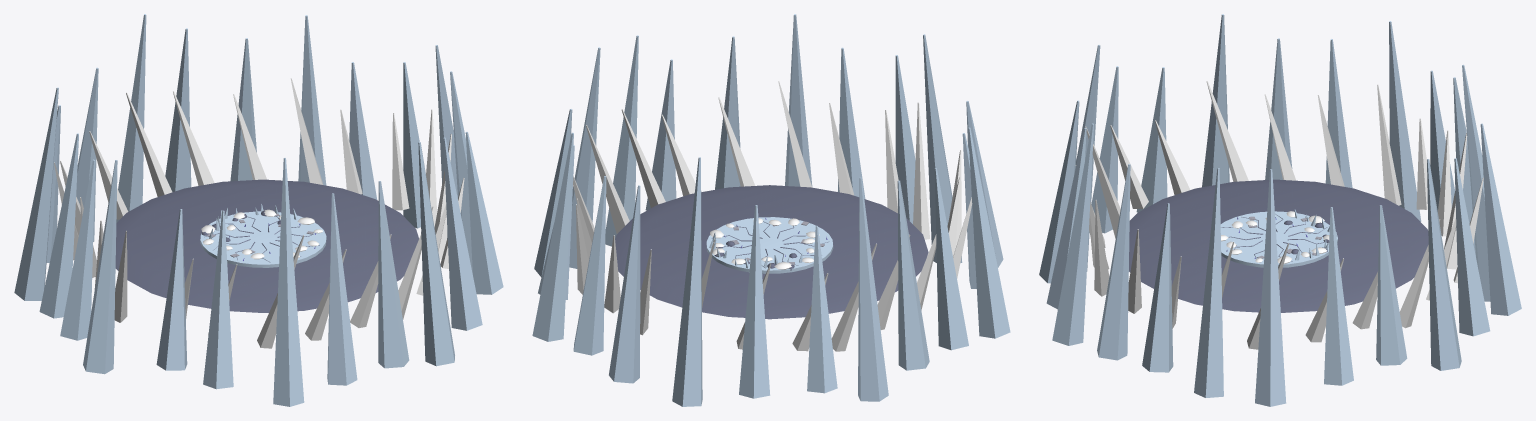
File: frost_sentinel.glb
3 renders of one model, left to right at view 1: azimuth 30°, elevation 25°; view 2: azimuth 150°, elevation 25°; view 3: azimuth 270°, elevation 25°, orthographic.
Visible parts, largest first — view 1: FrostSentinelGround; view 2: FrostSentinelGround; view 3: FrostSentinelGround.
Part boxes in pixels (x1,y1,x2,y2): FrostSentinelGround: (14, 14, 503, 406); FrostSentinelGround: (532, 14, 1010, 406); FrostSentinelGround: (1039, 14, 1521, 406).
Bounding box in the file's own units: 45.94 × 24.42 × 45.71.
Materials: 1 (1 with a texture image).
